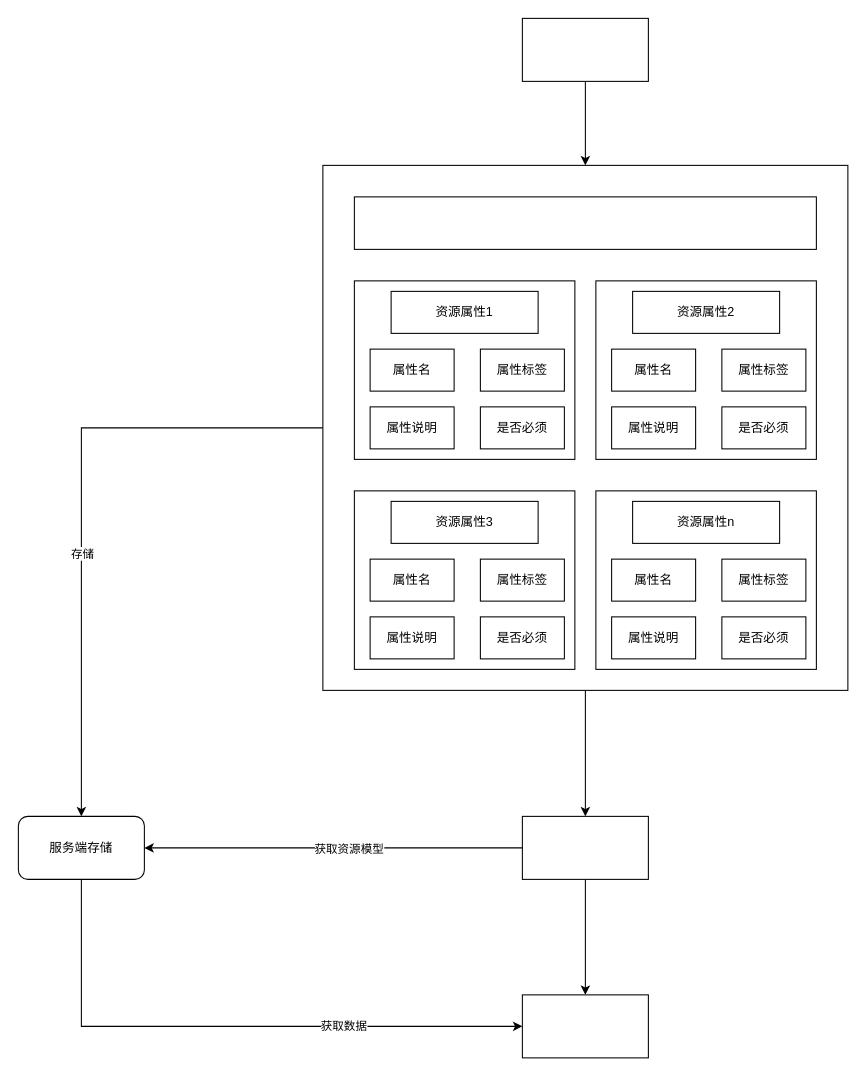
The diagram is 866 pixels wide and 1076 high, and some of its shapes have lost their labels. The centre of each missing label's shape, as x and y in pixels:
创建自定义资源模型: point (584, 49)
展示对应资源: point (584, 1026)
用户选择自定义资源: point (584, 847)
资源名: point (584, 222)
